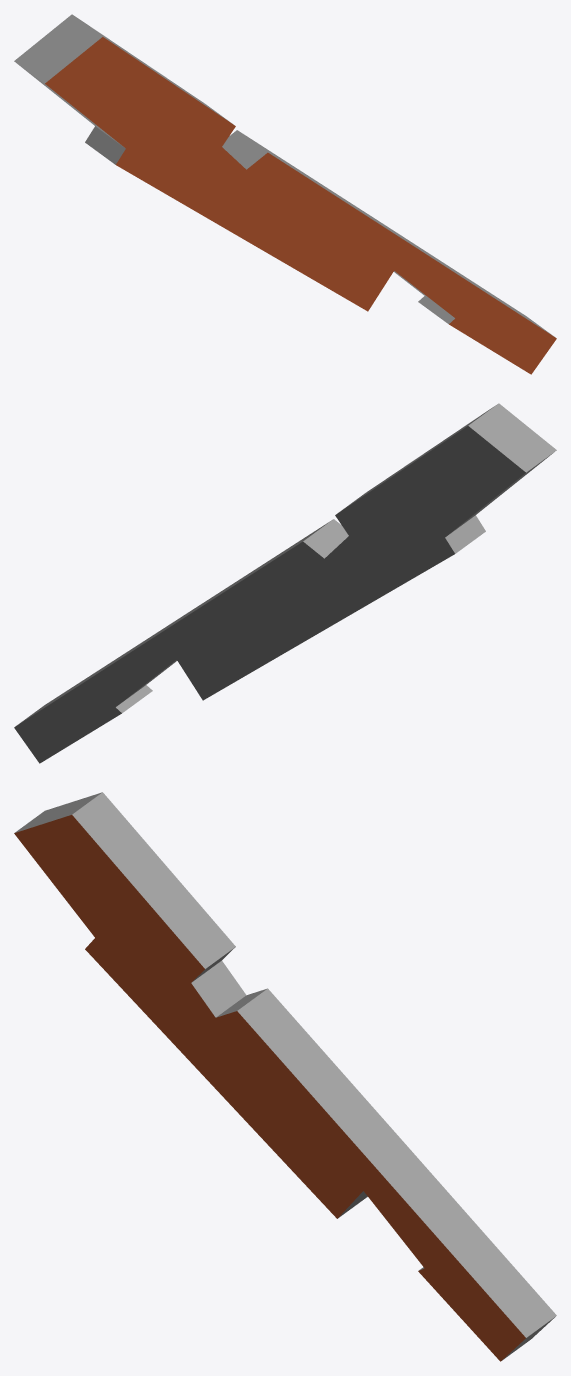
Rendered from construction_7053_assumed_A_Casa_h6m.obj.
The picture shows the model from 3 angles, top to bottom: view 1: azimuth 30°, elevation 25°; view 2: azimuth 150°, elevation 25°; view 3: azimuth 330°, elevation 25°; orthographic projection.
Visible parts, largest first — view 1: construction_7053_assumed_A_Casa; view 2: construction_7053_assumed_A_Casa; view 3: construction_7053_assumed_A_Casa.
Boxes of the visible parts, x1=… form: construction_7053_assumed_A_Casa: x1=14, y1=14, x2=556, y2=374; construction_7053_assumed_A_Casa: x1=14, y1=403, x2=556, y2=763; construction_7053_assumed_A_Casa: x1=14, y1=792, x2=556, y2=1361.
Bounding box in the file's own units: 57.62 × 47.58 × 6.
